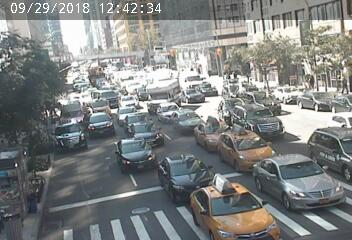car: (260, 161, 328, 208), (192, 183, 260, 228), (308, 118, 352, 157), (236, 106, 278, 138), (121, 140, 161, 170), (161, 159, 199, 190), (226, 132, 263, 163), (54, 126, 88, 147), (60, 106, 93, 127), (196, 118, 226, 140), (129, 123, 162, 139), (300, 91, 329, 109), (92, 118, 118, 137), (94, 101, 119, 120), (172, 110, 197, 129), (176, 73, 203, 89), (244, 90, 270, 104), (277, 86, 299, 102), (219, 98, 244, 112), (152, 100, 174, 113), (193, 80, 214, 92), (116, 107, 136, 117), (182, 88, 202, 98), (124, 117, 150, 124), (95, 89, 117, 97), (121, 97, 138, 107)
